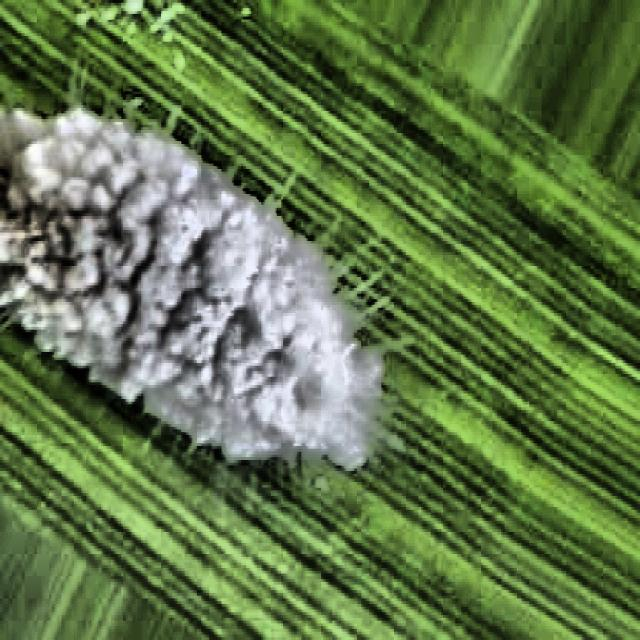Mealy-bug: (1, 37, 410, 551)
